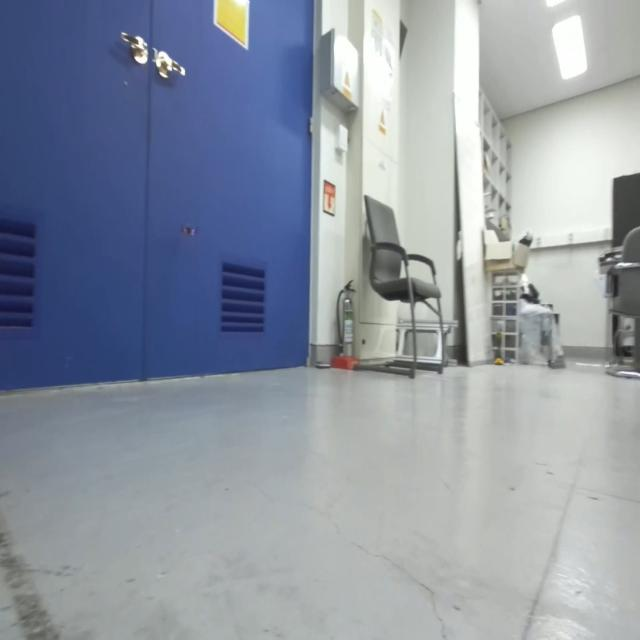crazyflie: (178, 217, 200, 243)
